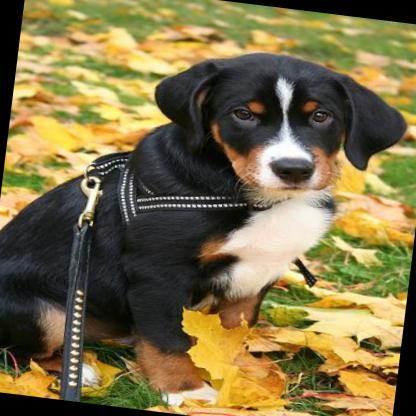Appenzeller: (0, 22, 410, 416)
